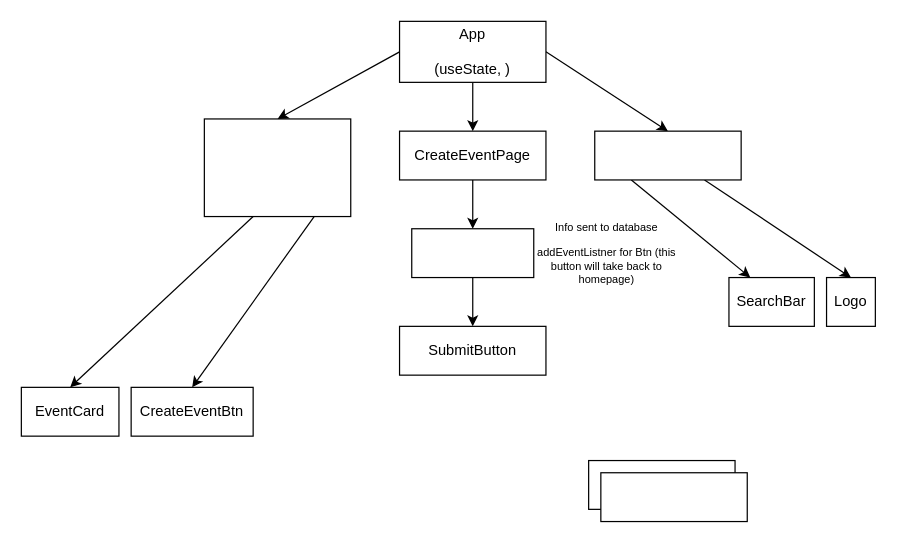
Some shapes in this 897 by 543 pixel diagram are drawn without their labels. The shapes that lost their labels are listed below. From the top down, each one's box as (x1, y1, x2, y2) in pixels, then its label:
(203, 118, 351, 217): HomePage Render: createEventButton, .map EventCards
(594, 130, 741, 180): NavBar
(411, 228, 534, 278): CreateEventForm
